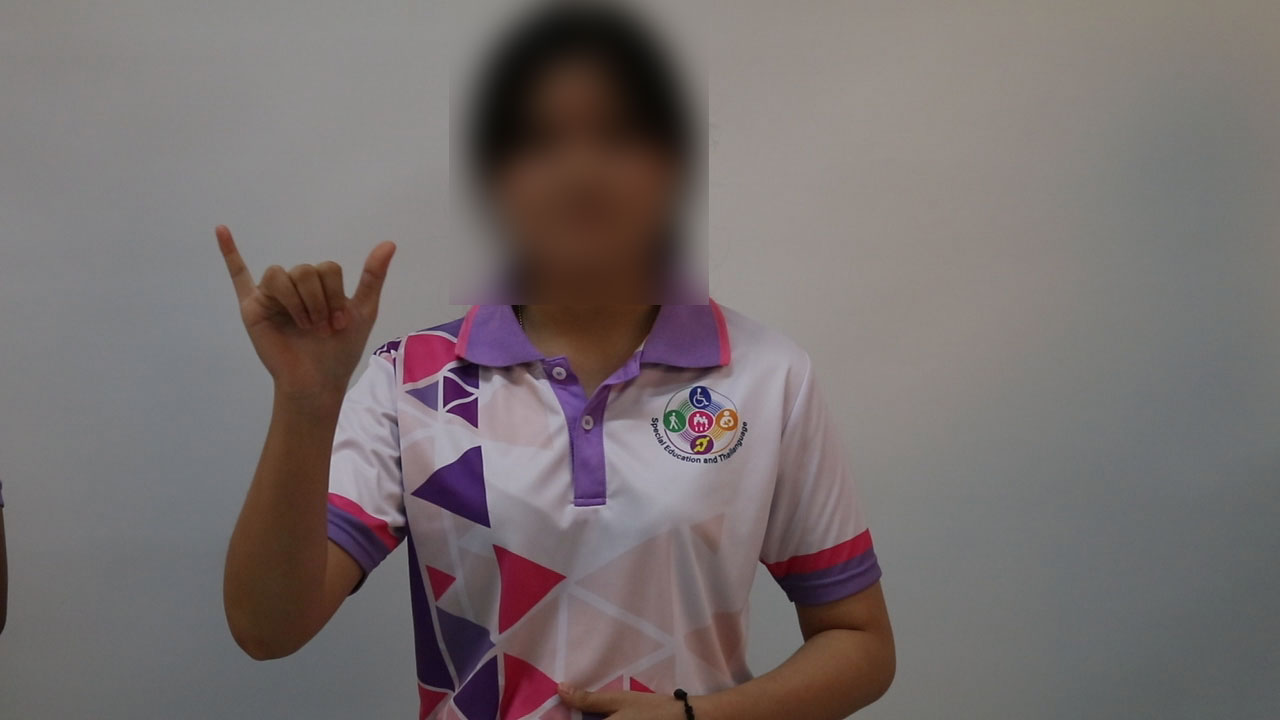yor: (203, 215, 413, 410)
